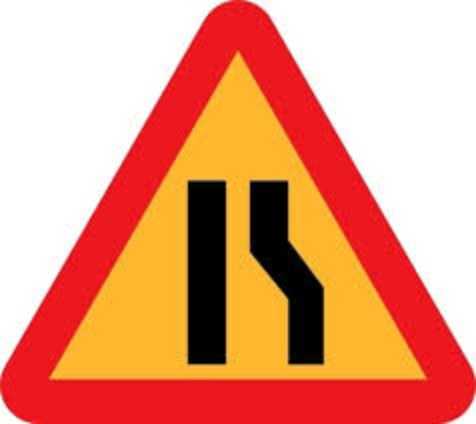Narrow_road: (4, 1, 476, 422)
